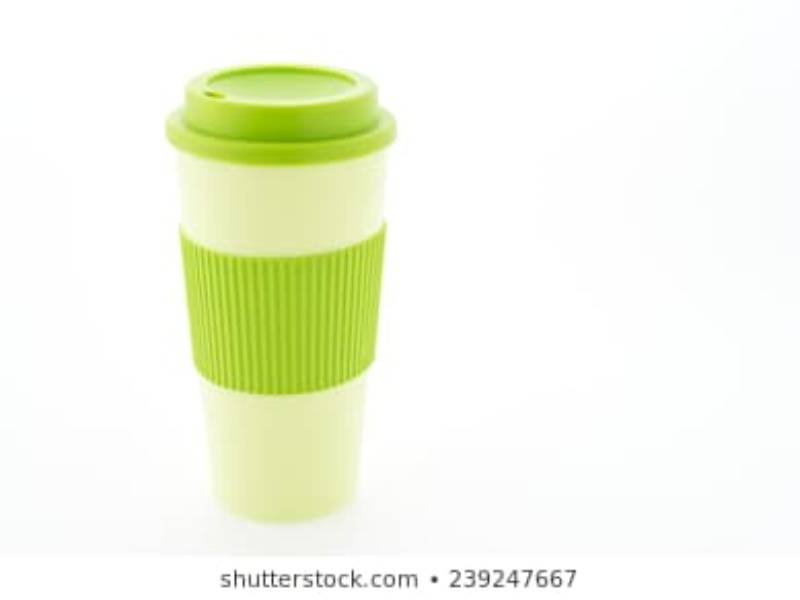coffee-lid: (159, 58, 403, 166)
plastic-cup: (152, 61, 389, 520)
